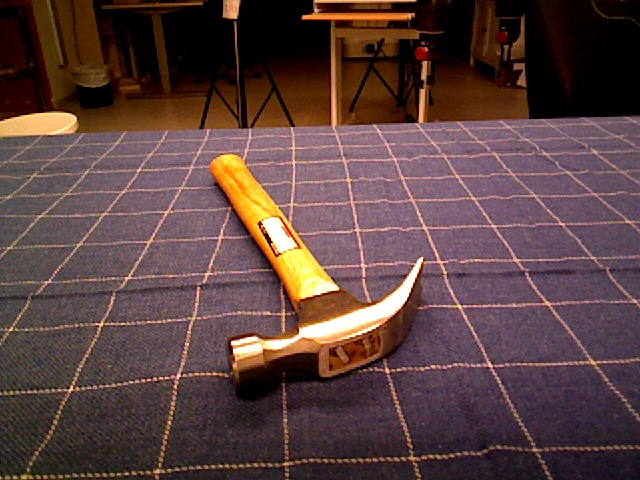hammer1: (208, 154, 426, 398)
